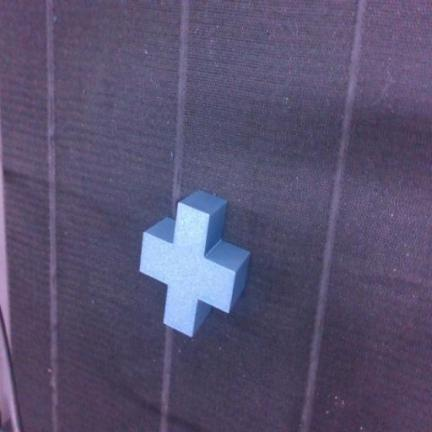cross: (141, 191, 249, 336)
